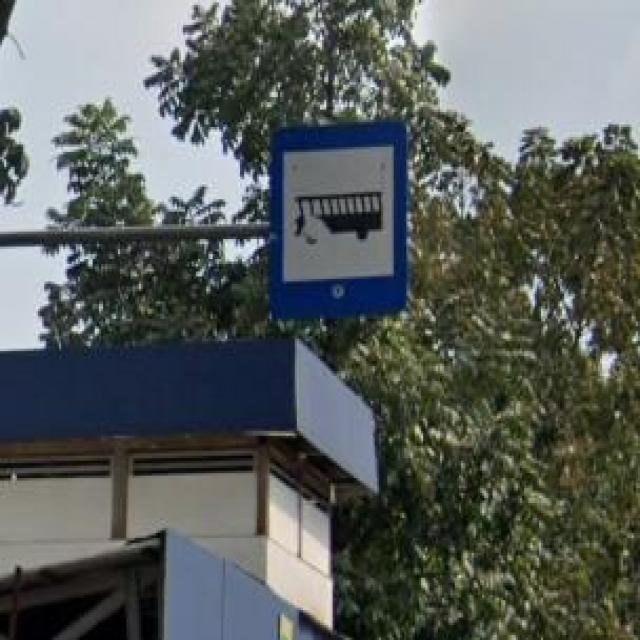traffic sign: (274, 122, 406, 321)
